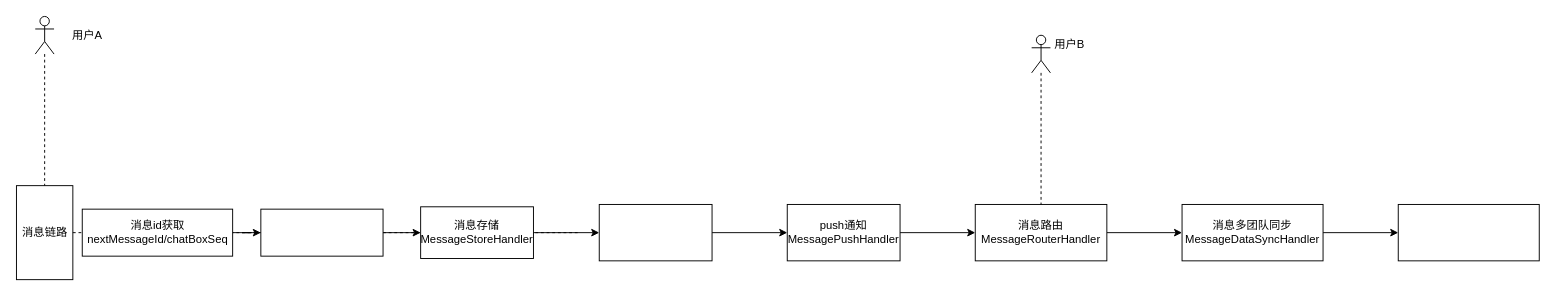
Some shapes in this 1556 by 297 pixel diagram are drawn without their labels. The shapes that lost their labels are listed below. From the top down, each one's box as (x1, y1, x2, y2) in pixels, then its label:
(260, 208, 383, 256): 消息预处理 preHandler
(598, 204, 712, 261): 消息同步到端上 MessageSyncHandler
(1397, 204, 1539, 261): 消息后置处理 MessageAfterHandler
